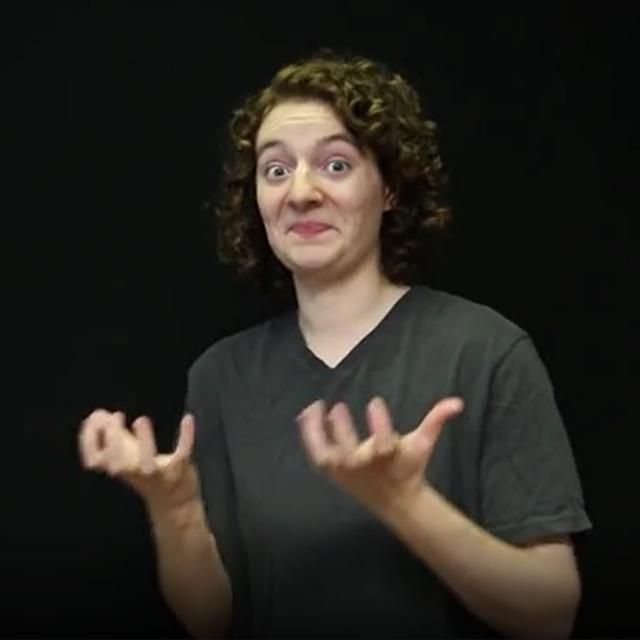want: (81, 398, 463, 502)
